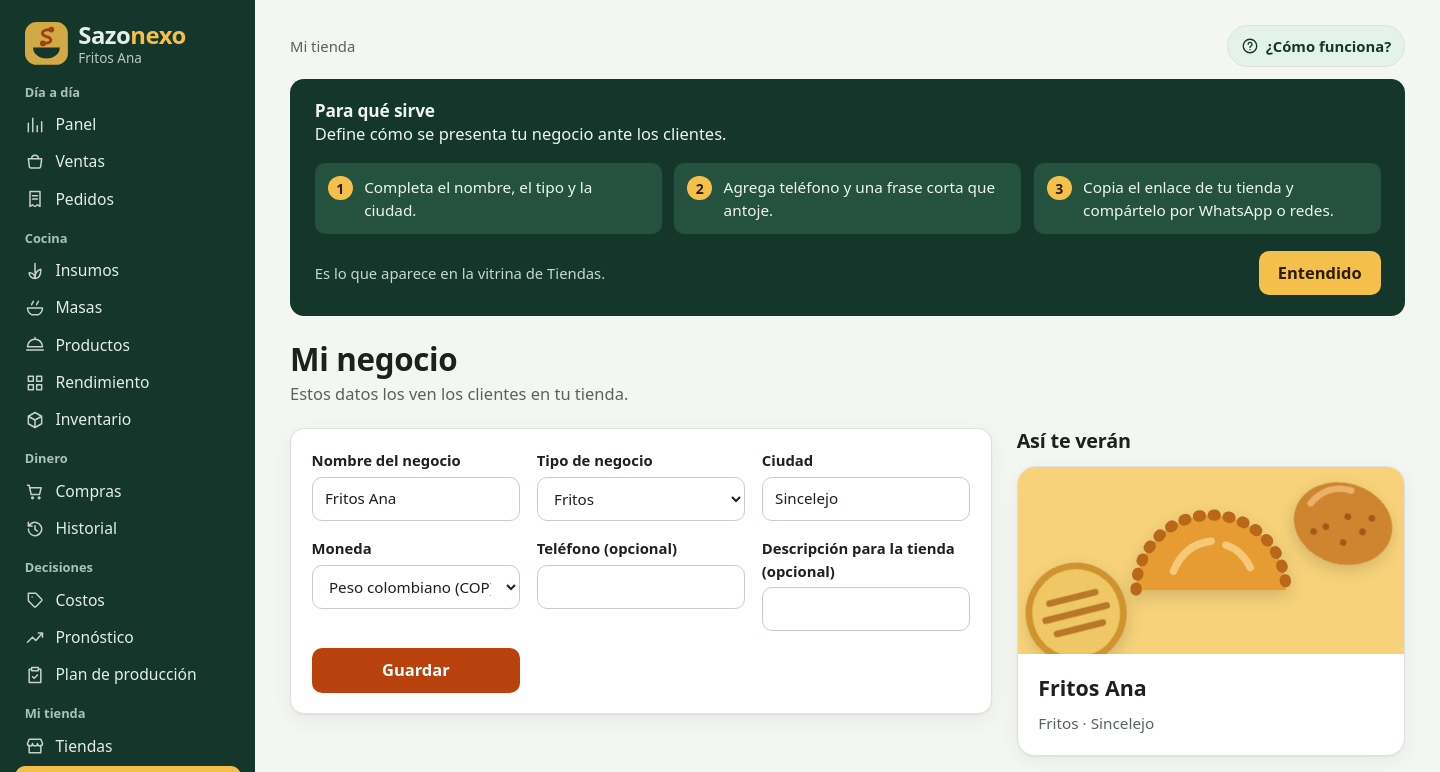
it: HU-02 Negocio (funcionales) › CA-4: un negocio existente se puede editar
Expected: the field showing "Fritos Ana" is shown, [312,476,520,521]
Step 1. Click the button "Guardar" → (416, 670), box [312,648,520,693]
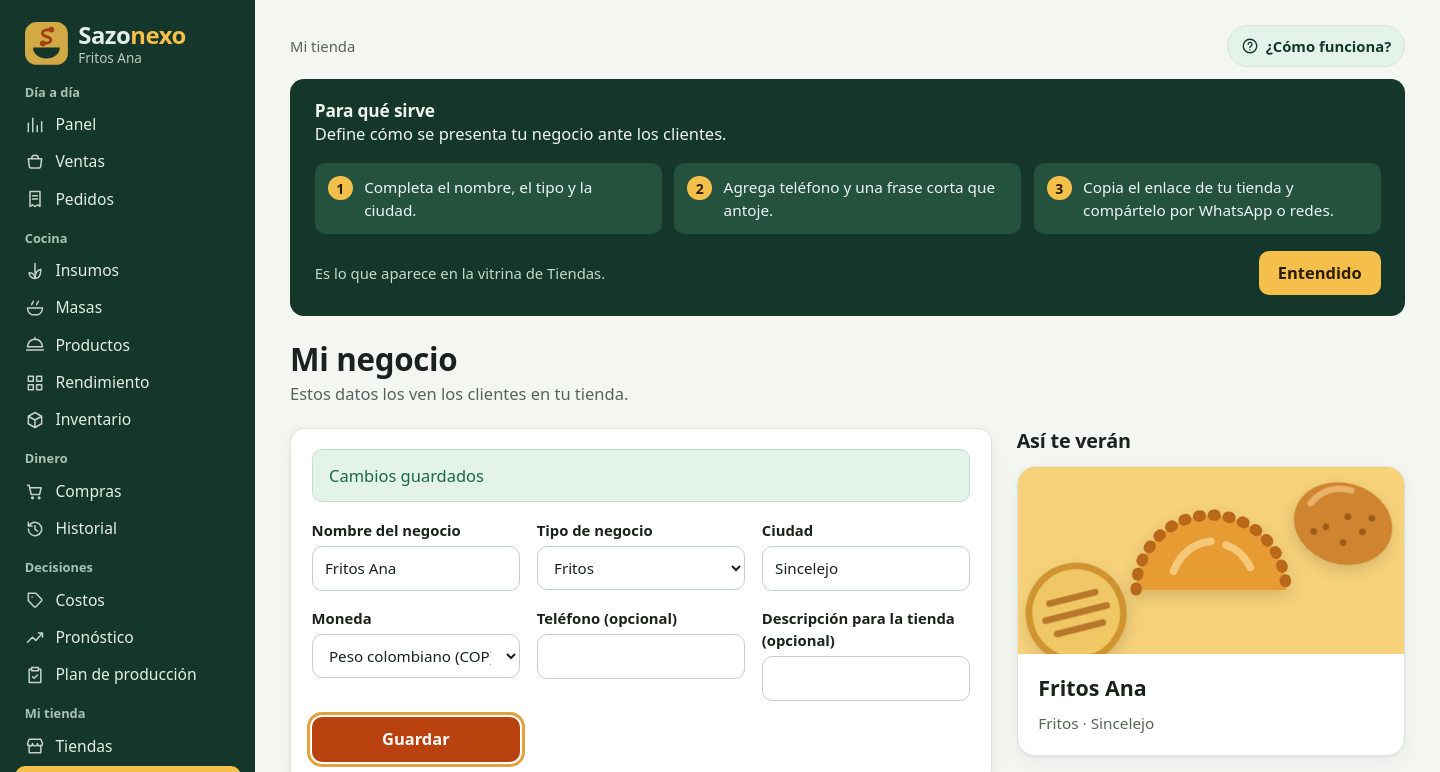
Result: the text "Cambios guardados" is shown at [312,449,970,502]
